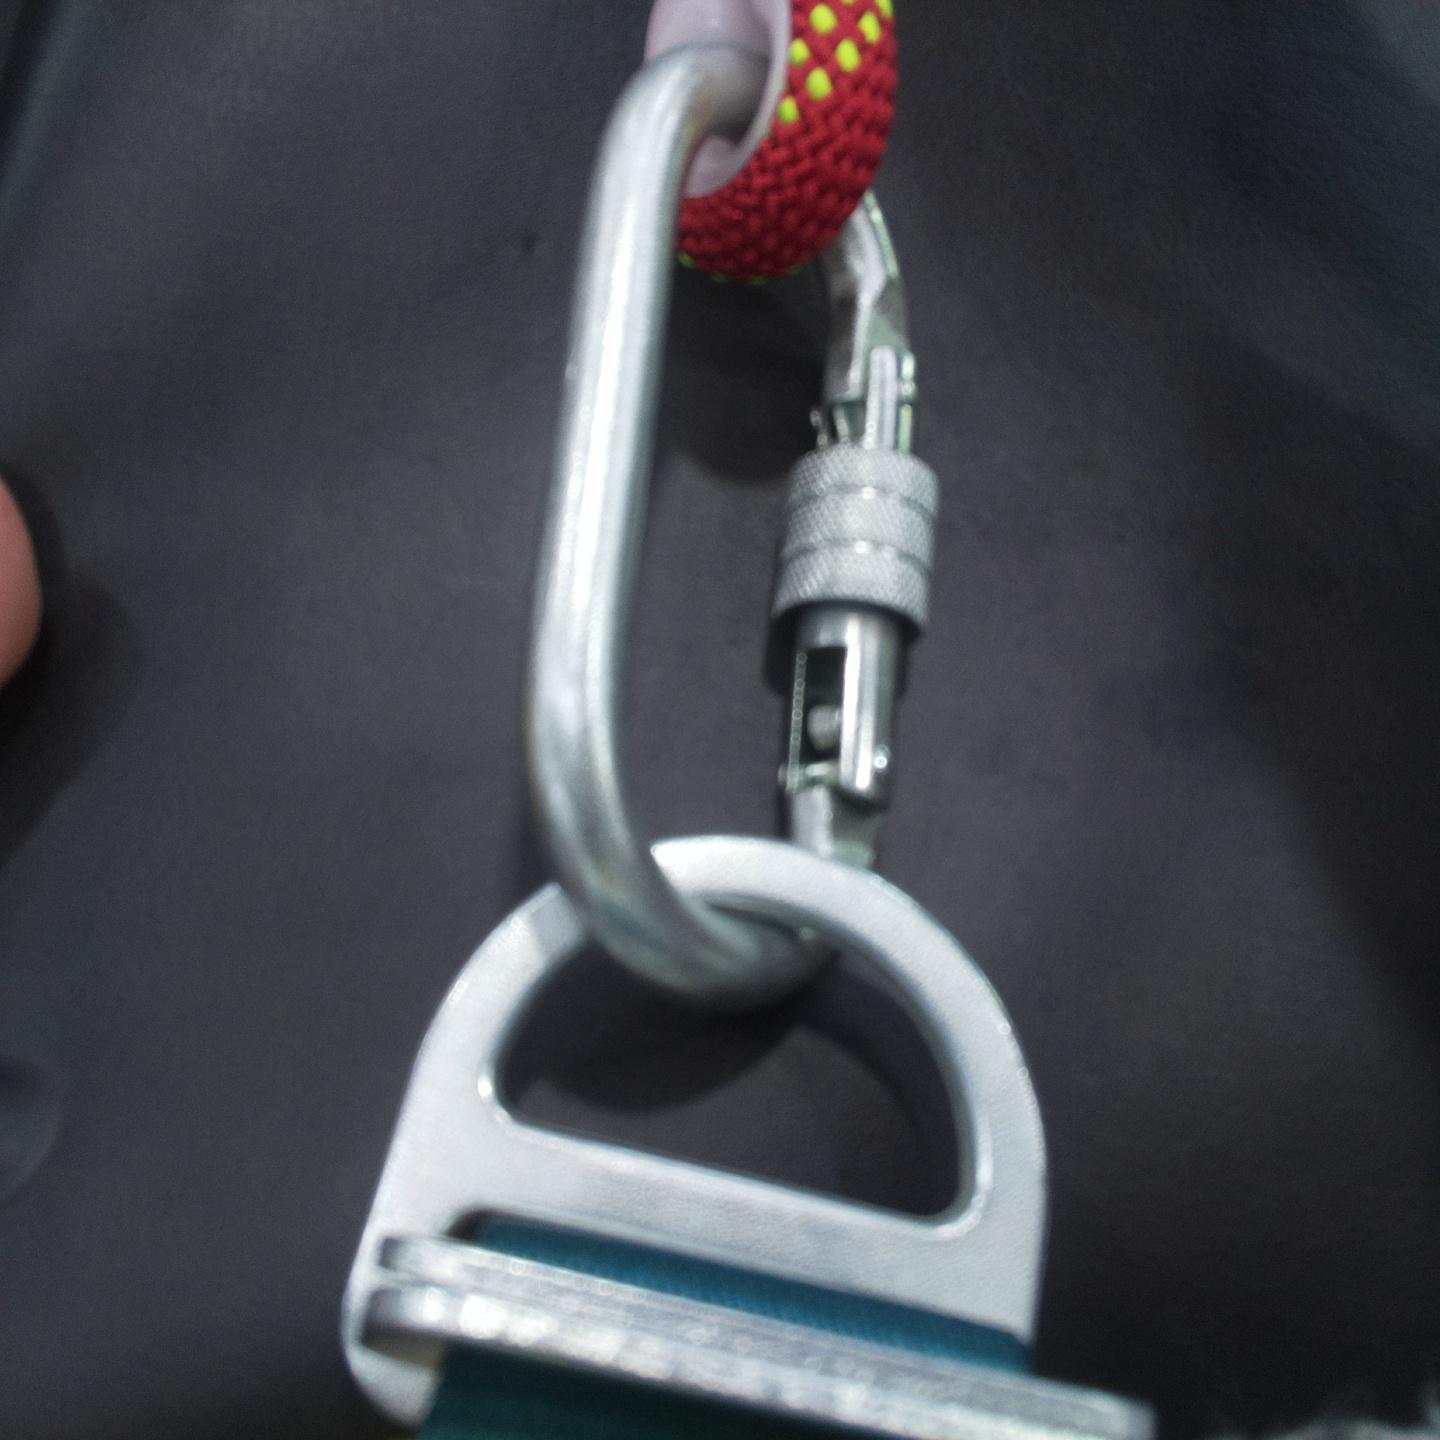SUCCESS: (367, 479, 1112, 1287)
